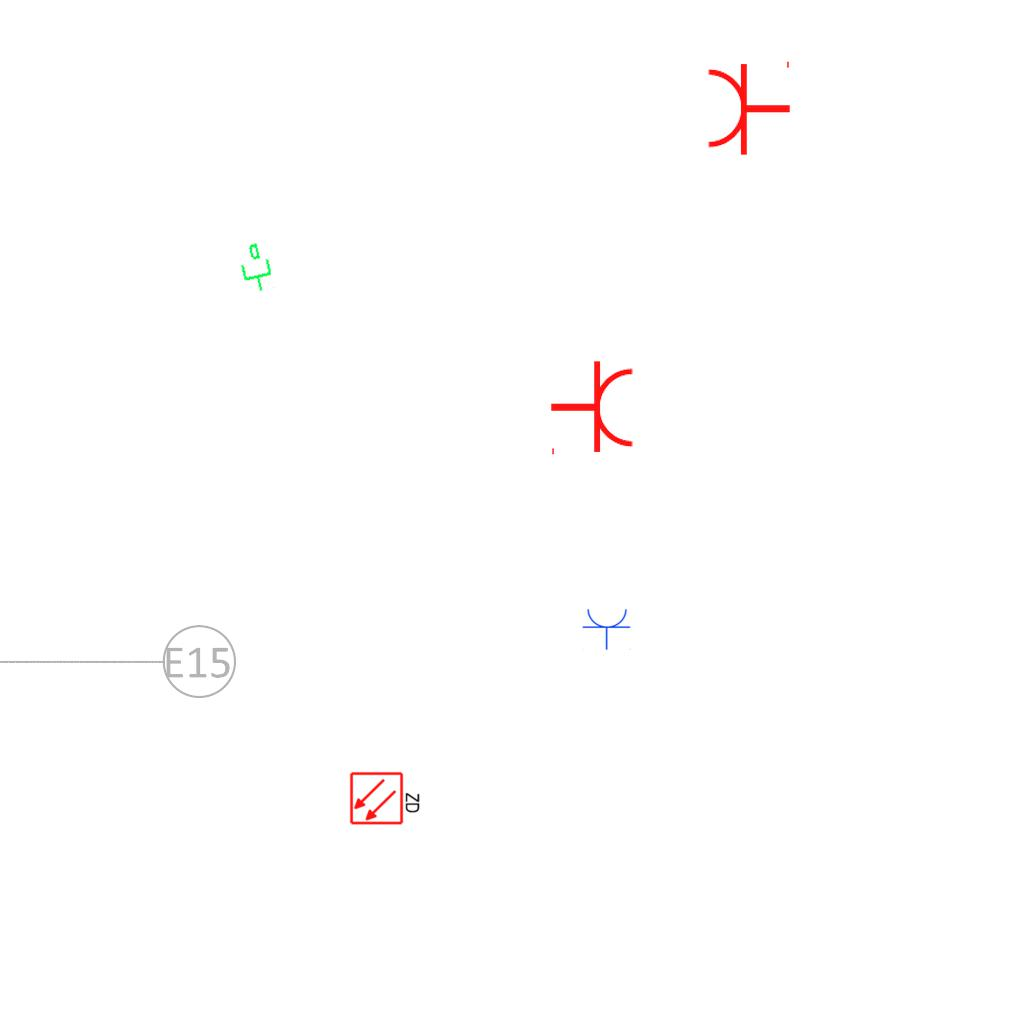Datenanschluss_einfach: (232, 239, 278, 297)
Schukosteckdose_einfach: (705, 57, 792, 157), (549, 359, 636, 459), (582, 607, 632, 650)
ZD_Melder_in_Zwischendecke_mit_Revisionsoeffnung_mind_40_x_40_cm: (349, 769, 423, 826)
